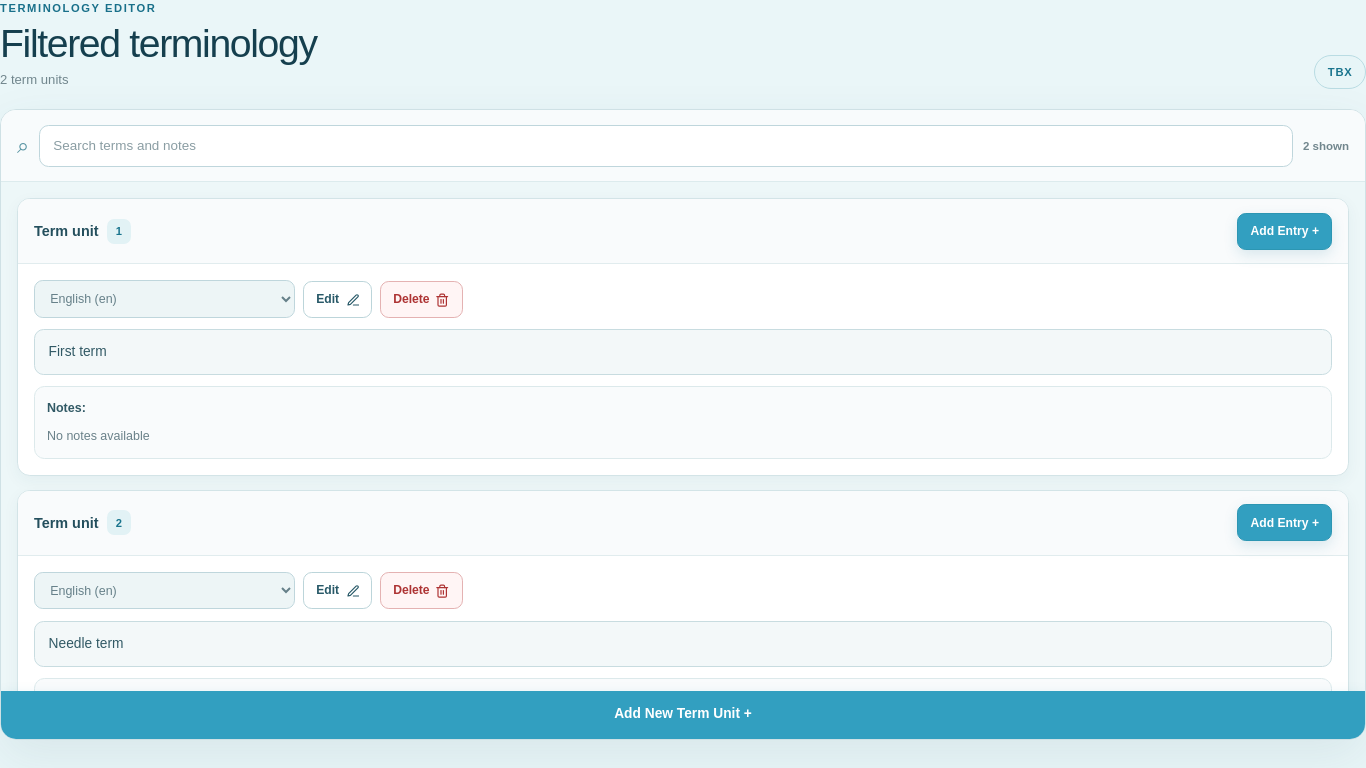
Scenario: real CAT application route › edits the displayed TB record after filtering without corrupting another record
Type "Needle term" into the field with class "search-input".
click(666, 146); type("Needle term")  # box [40,125,1292,167]
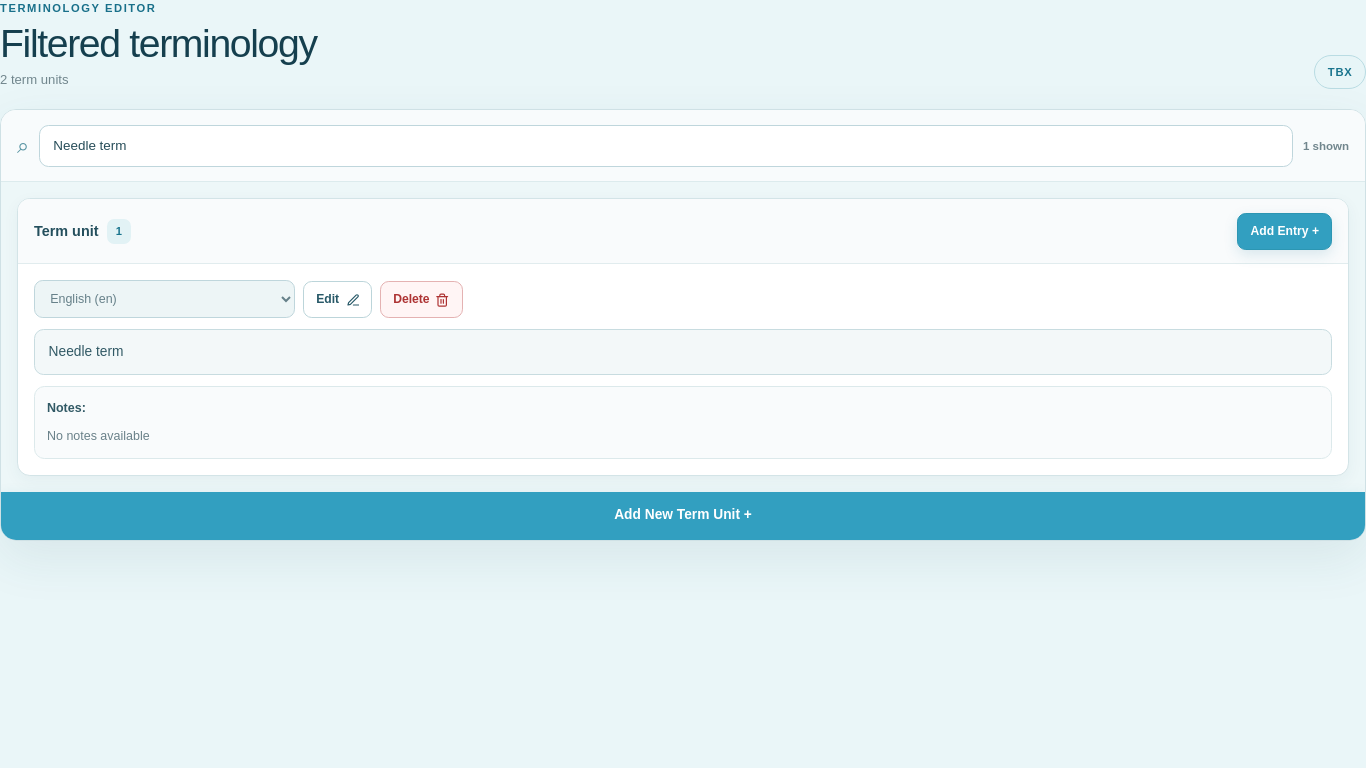
Now the number of elements with class "resource-unit-card" is 1, box [17,198,1349,476]
Click the button "Edit".
click(338, 299)  # box [303,281,372,318]
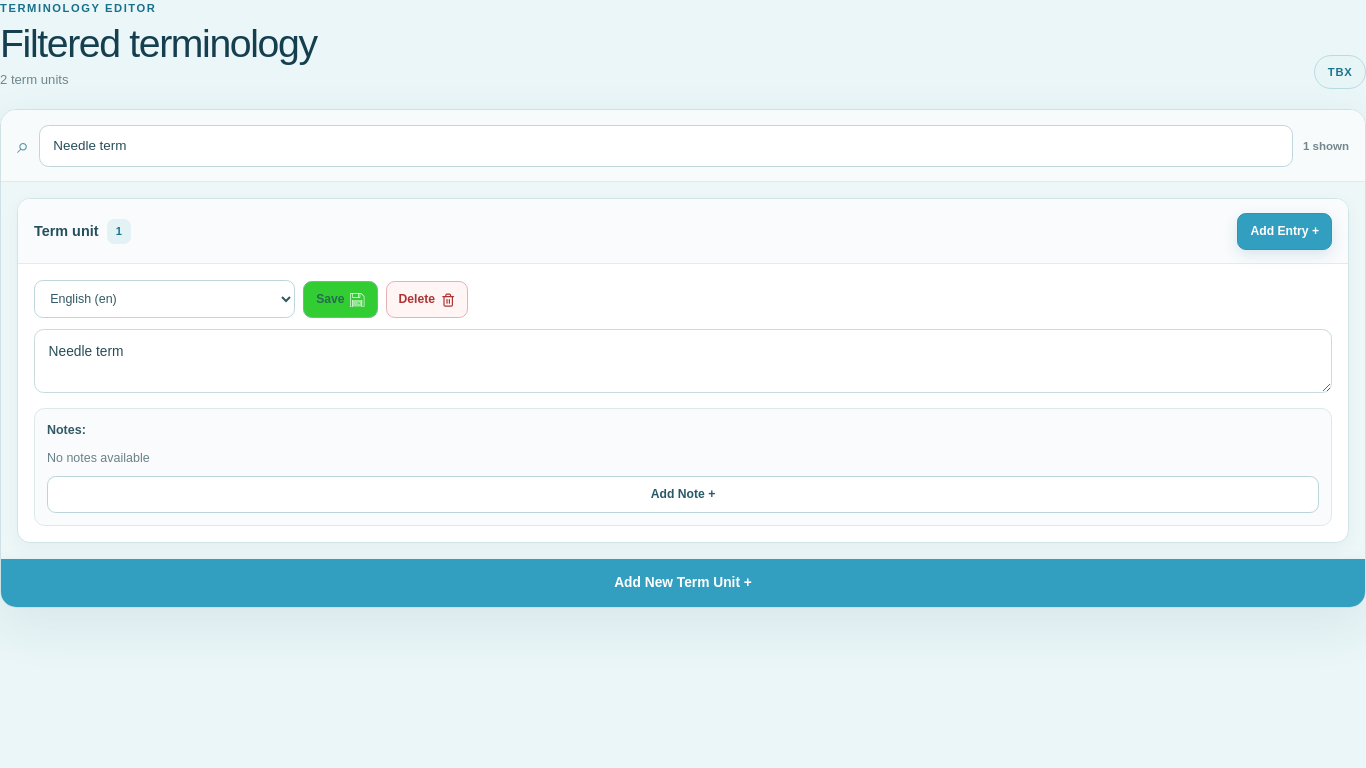
Replace the text in the text box with "Edited term" at (683, 361), box [34,329,1332,393]
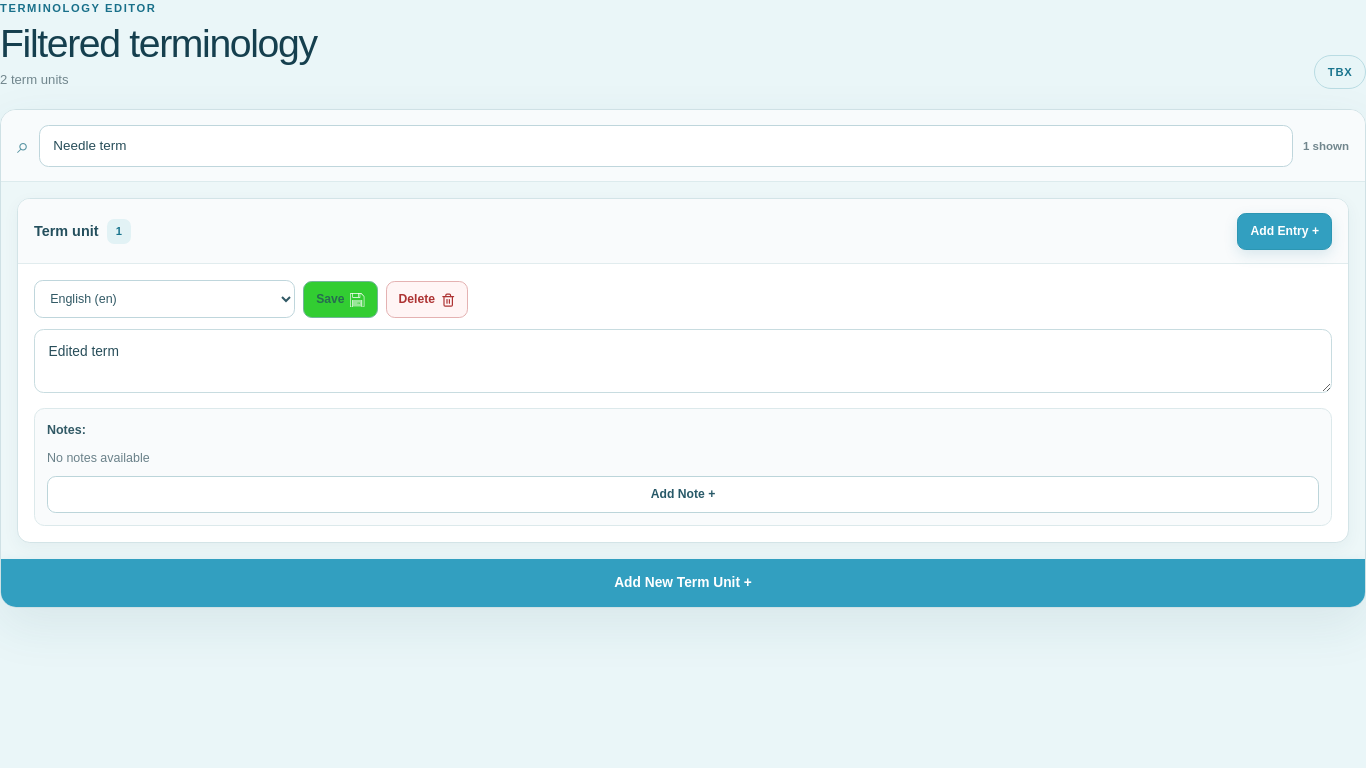
Click the button "Save".
click(340, 299)  # box [303,281,378,318]
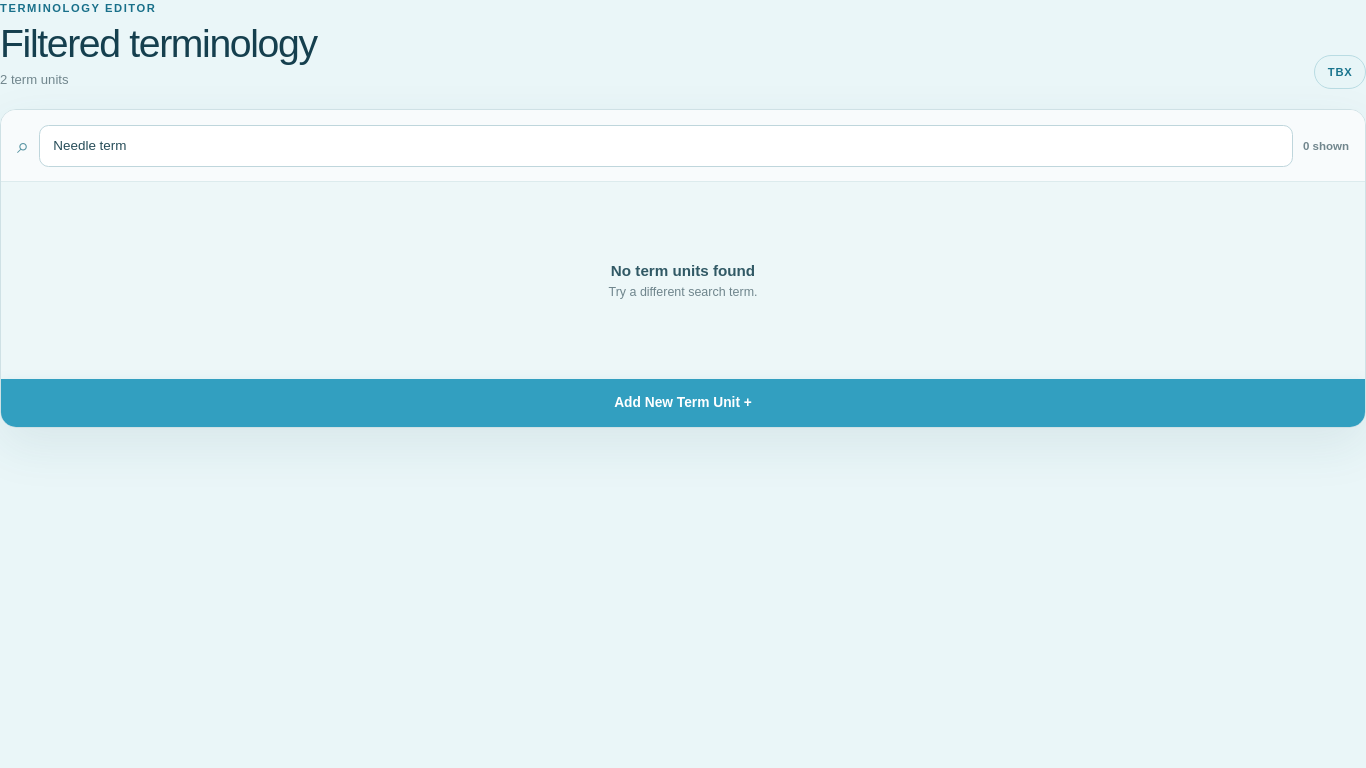
Now the text box is gone
